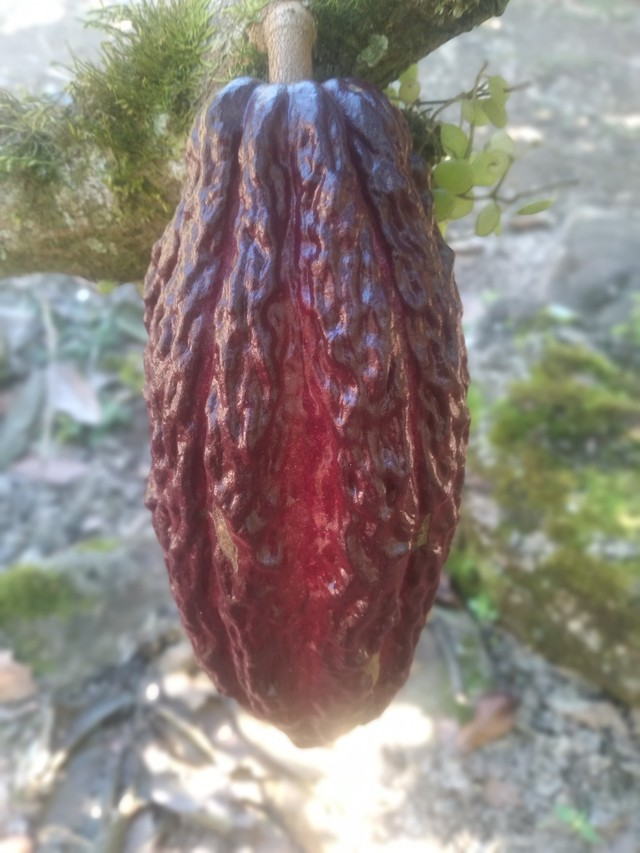Health: (122, 60, 486, 751)
